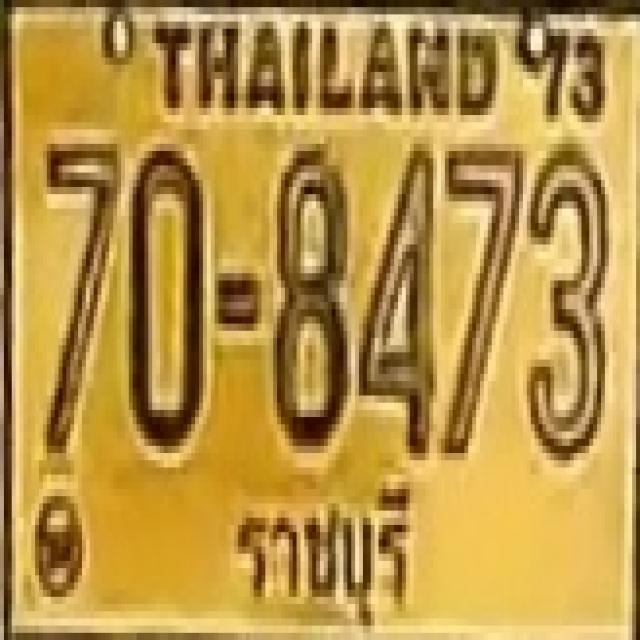0: (125, 140, 199, 442)
3: (523, 140, 605, 457)
4: (355, 140, 433, 450)
7: (437, 137, 523, 453), (43, 137, 117, 446)
8: (270, 140, 344, 435)
RBR: (222, 478, 420, 634)
